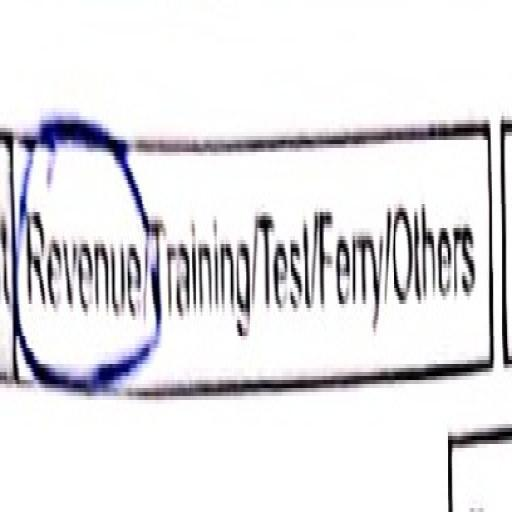check: (1, 80, 149, 440)
